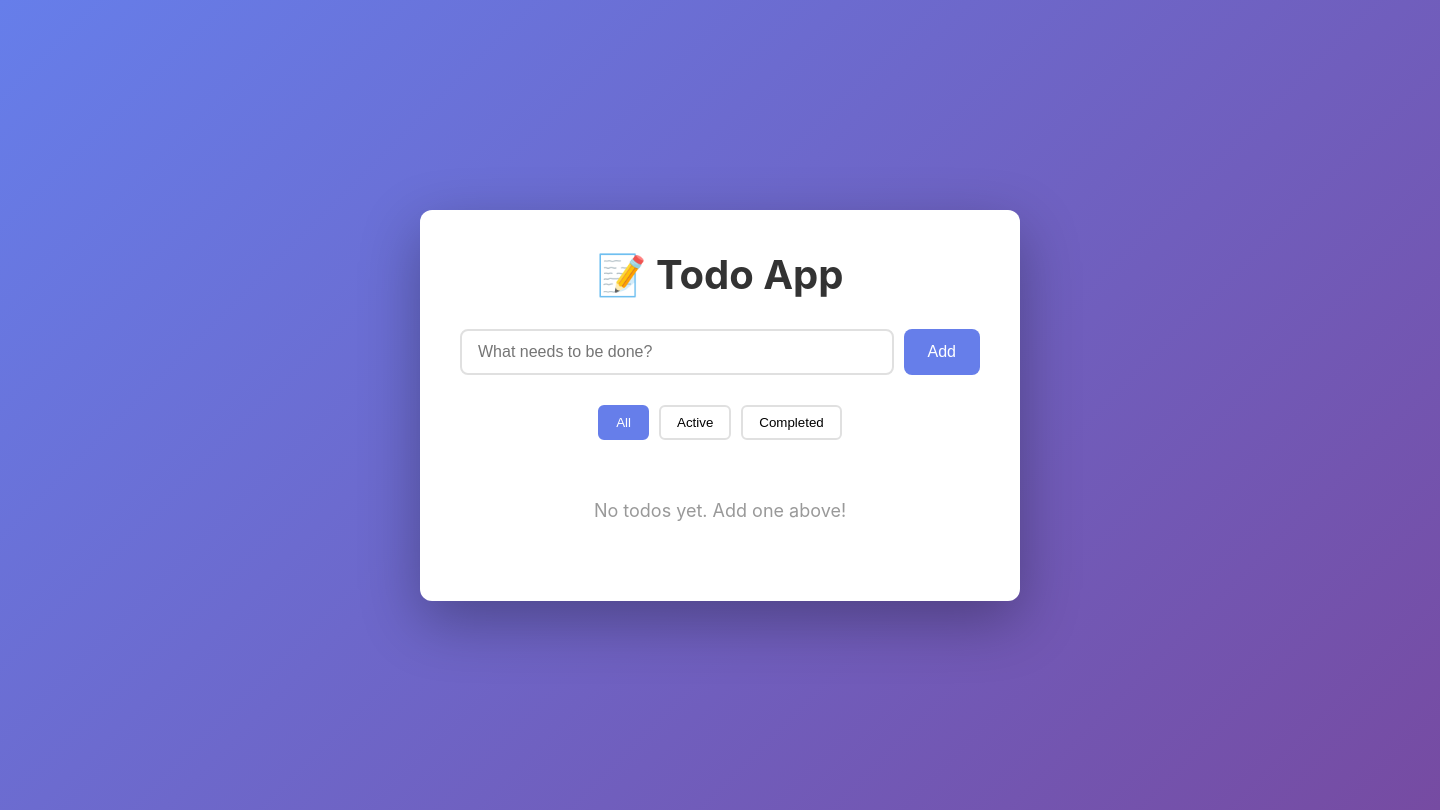
Test: App Component › filters todos correctly
Type "Active todo" into the field with placeholder "What needs to be done?".
click(677, 352); type("Active todo")  # box x1=460 y1=328 x2=894 y2=374
Click the button "Add".
click(942, 352)  # box x1=904 y1=328 x2=980 y2=374
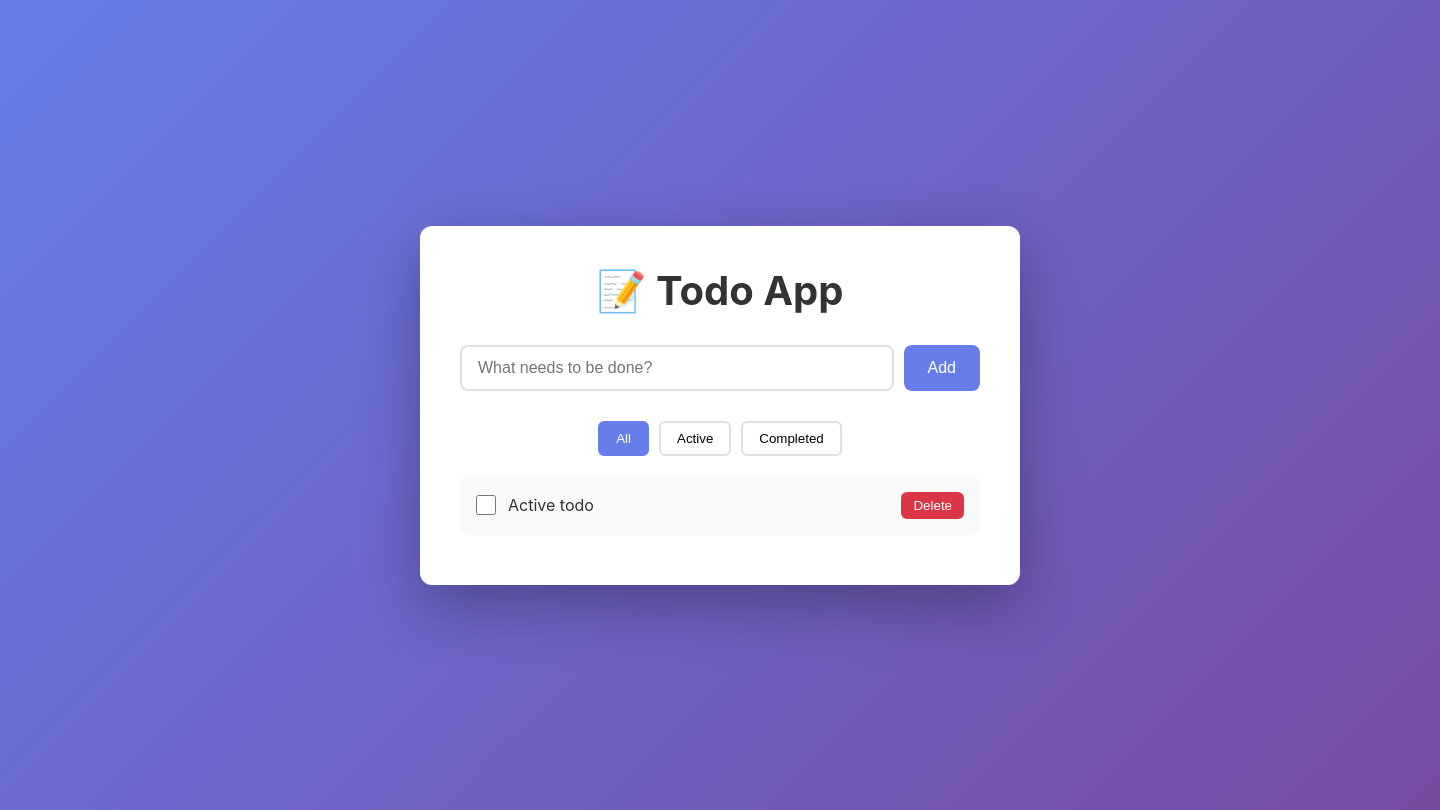
Type "Completed todo" into the field with placeholder "What needs to be done?".
click(677, 368); type("Completed todo")  # box x1=460 y1=344 x2=894 y2=390
Click the button "Add".
click(942, 368)  # box x1=904 y1=344 x2=980 y2=390
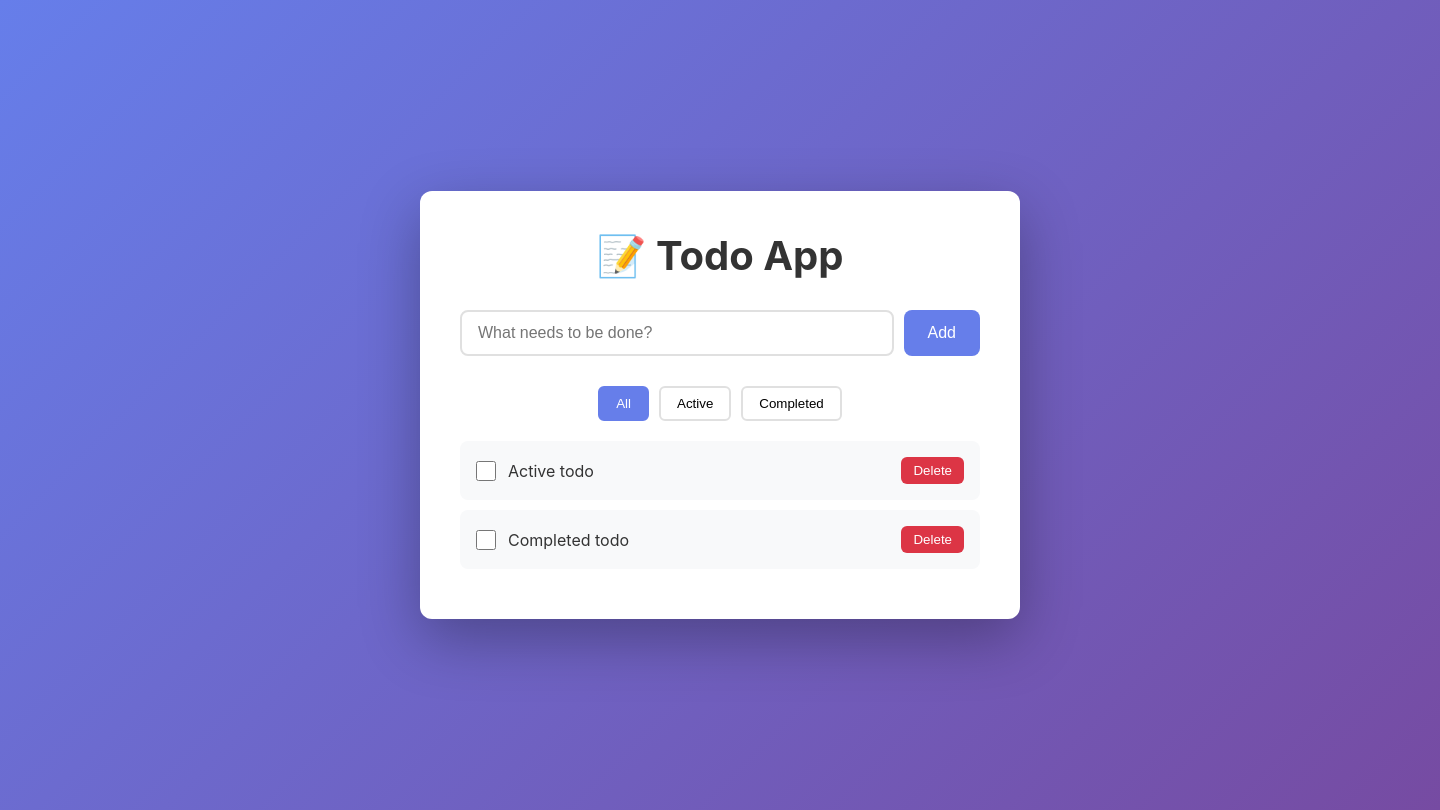
Click the checkbox named "Toggle Completed todo".
click(486, 540)  # box x1=476 y1=530 x2=496 y2=550
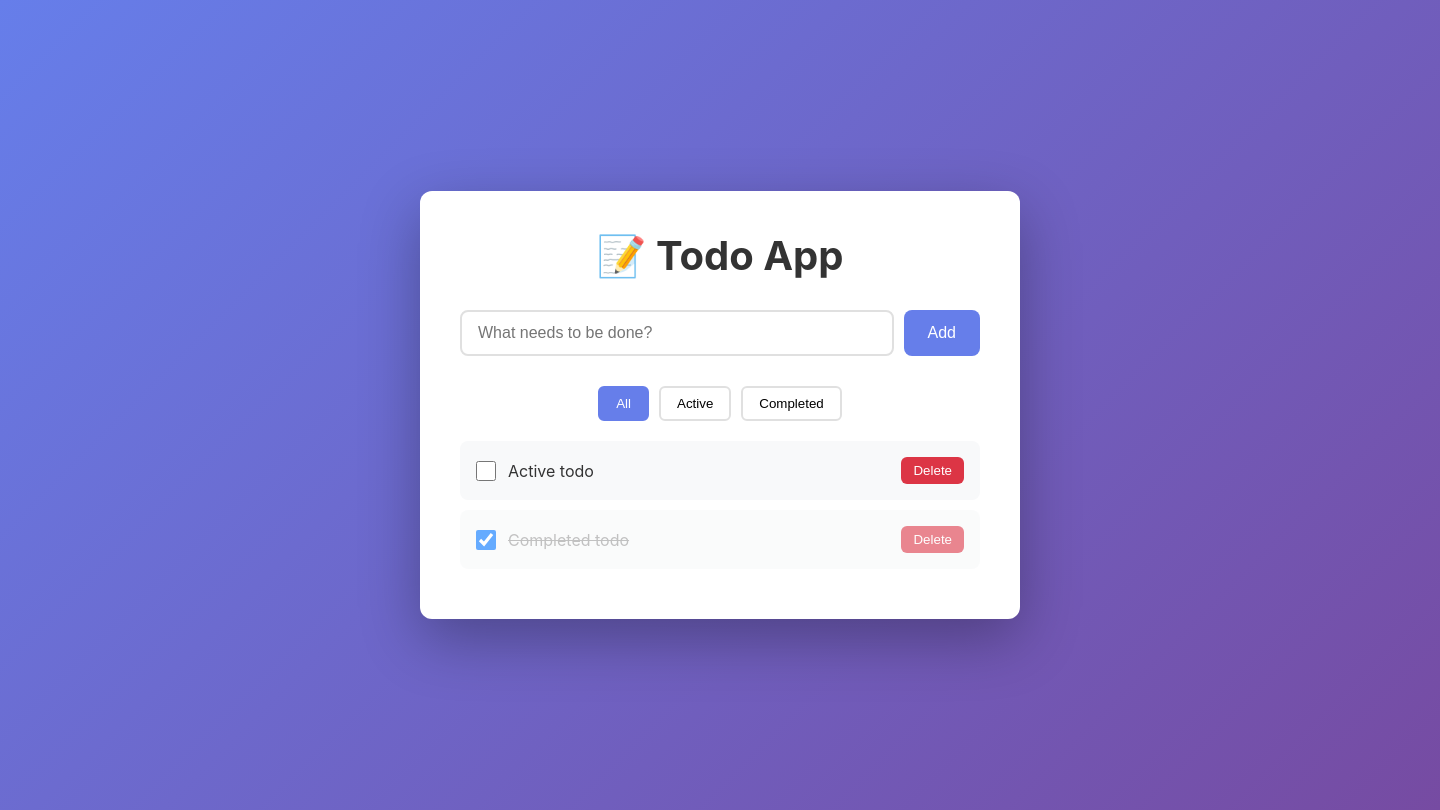
Note: Test Active filter
Click the button "Active".
click(695, 404)  # box x1=659 y1=386 x2=731 y2=421
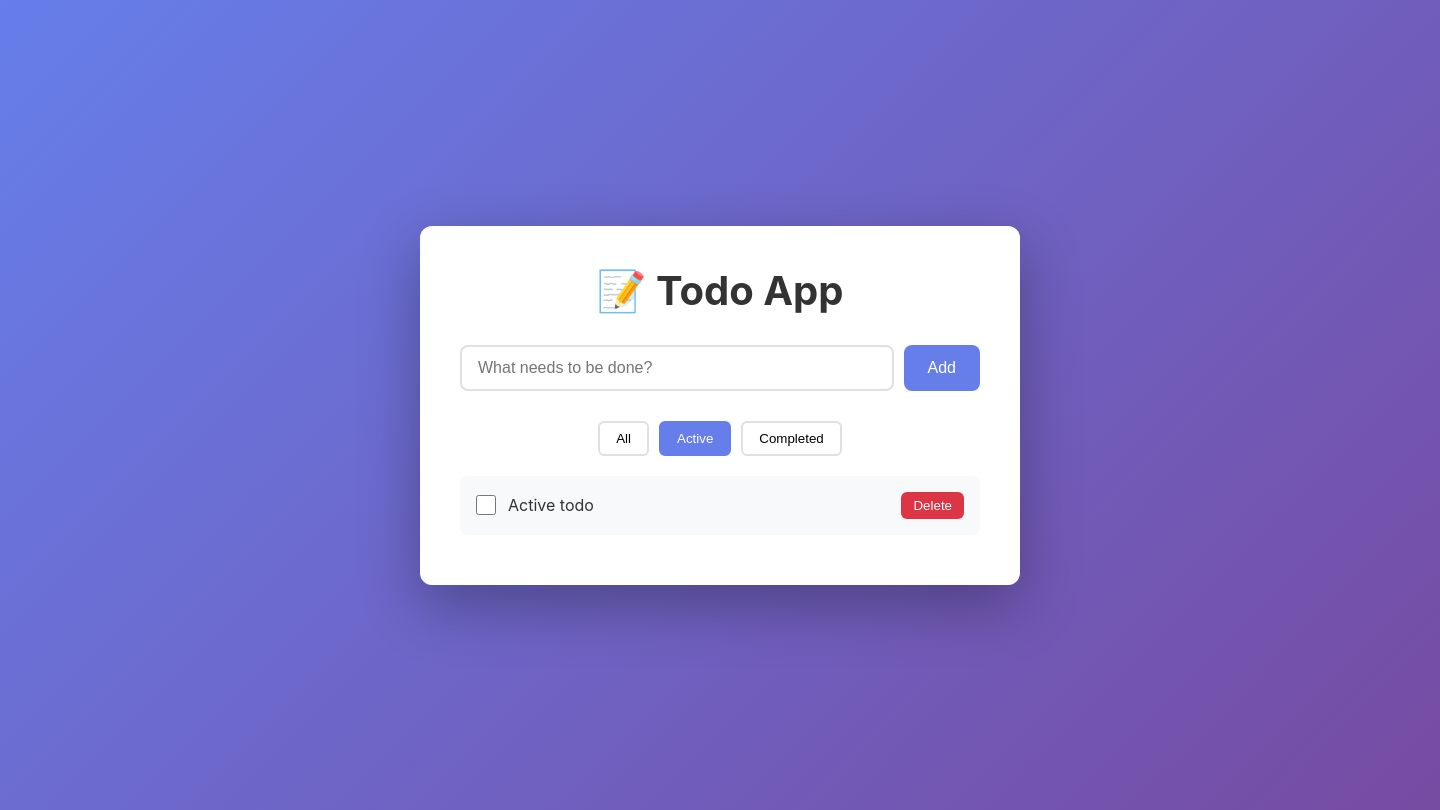
Now the text "Active todo" is shown, box x1=508 y1=495 x2=594 y2=515
Now the text "Completed todo" is gone
Note: Test Completed filter
Click the button "Completed".
click(792, 438)  # box x1=741 y1=420 x2=842 y2=456
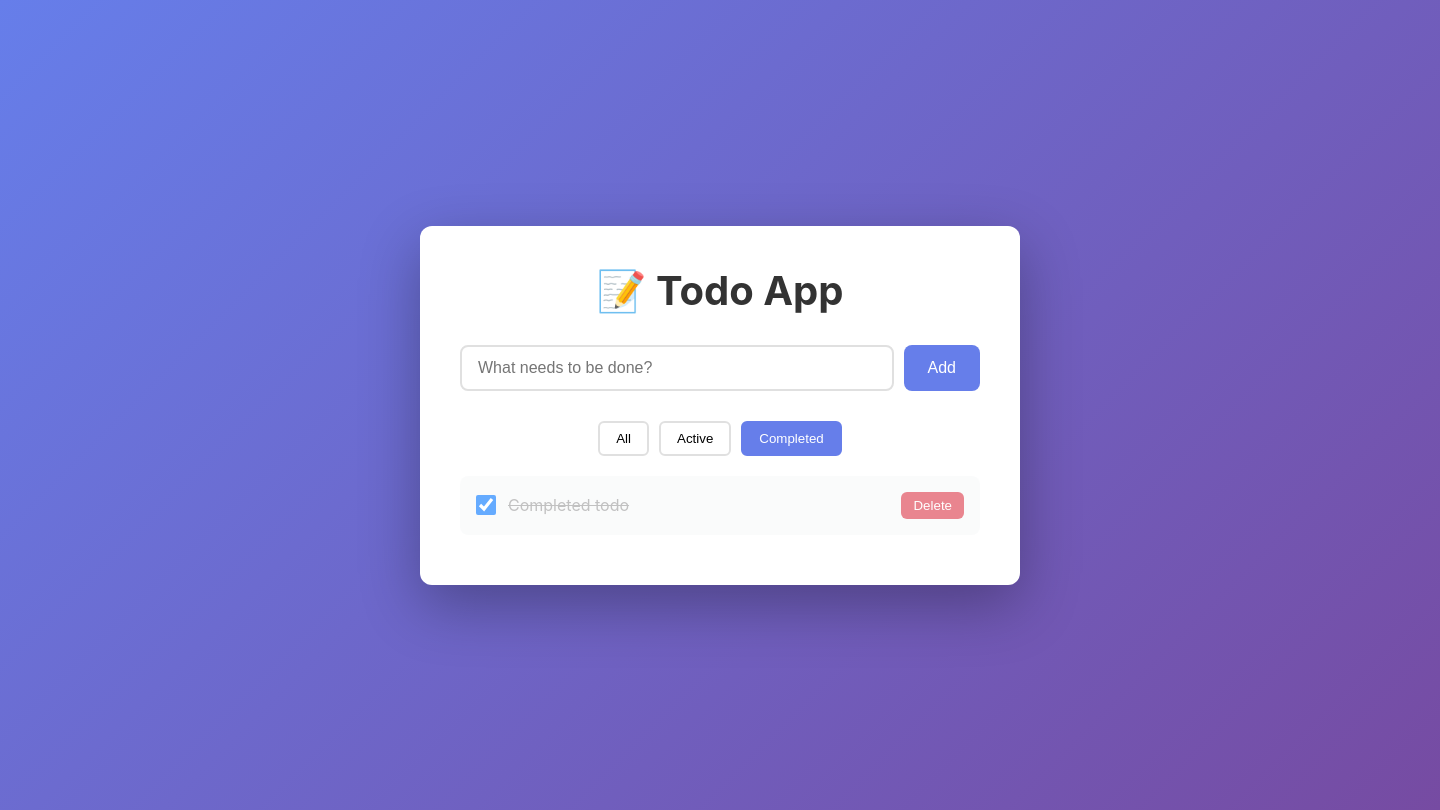
Now the text "Active todo" is gone
Now the text "Completed todo" is shown, box x1=508 y1=495 x2=629 y2=515
Note: Test All filter
Click the button "All".
click(624, 438)  # box x1=598 y1=420 x2=649 y2=456
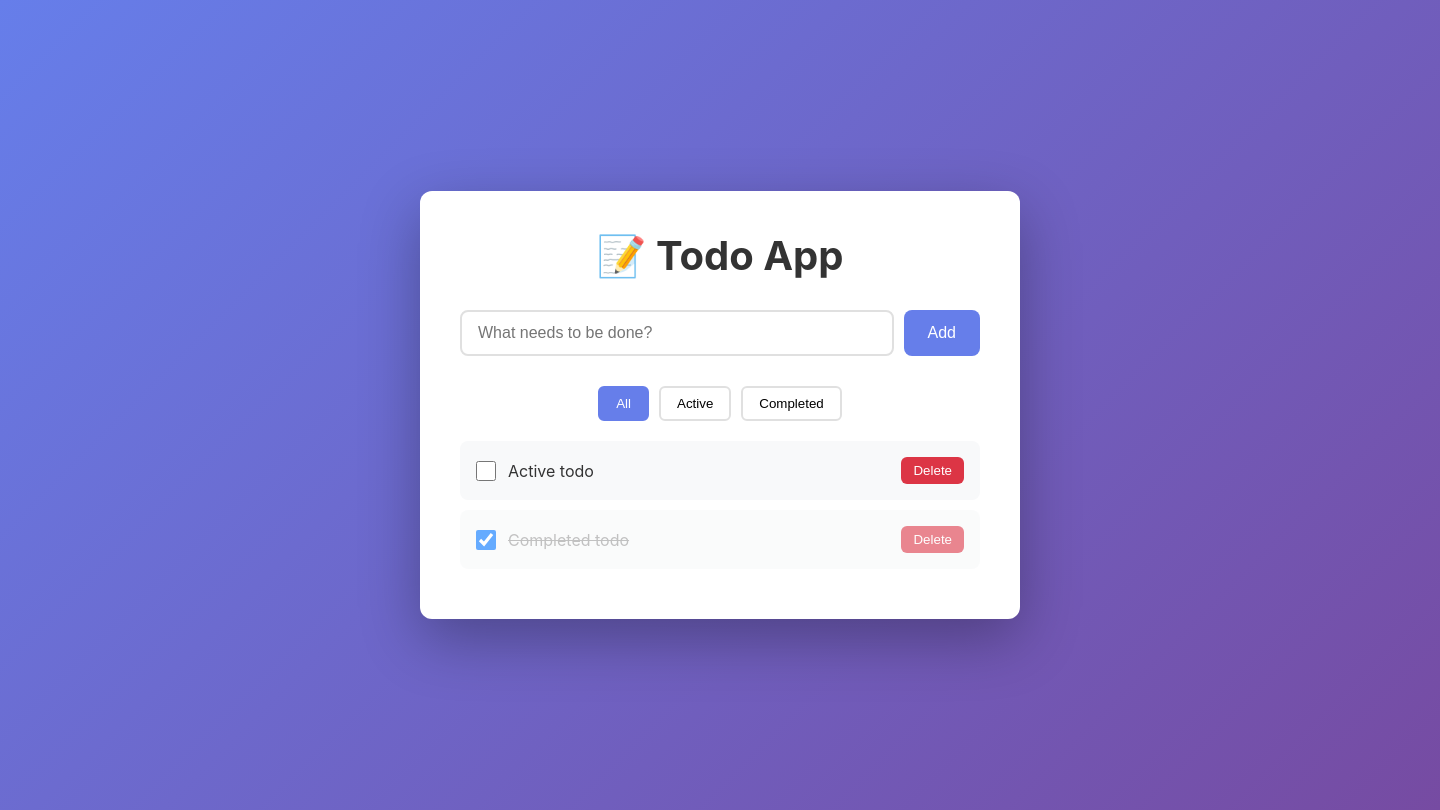
Now the text "Completed todo" is shown, box x1=508 y1=530 x2=629 y2=550
Now the text "Active todo" is shown, box x1=508 y1=460 x2=594 y2=480
